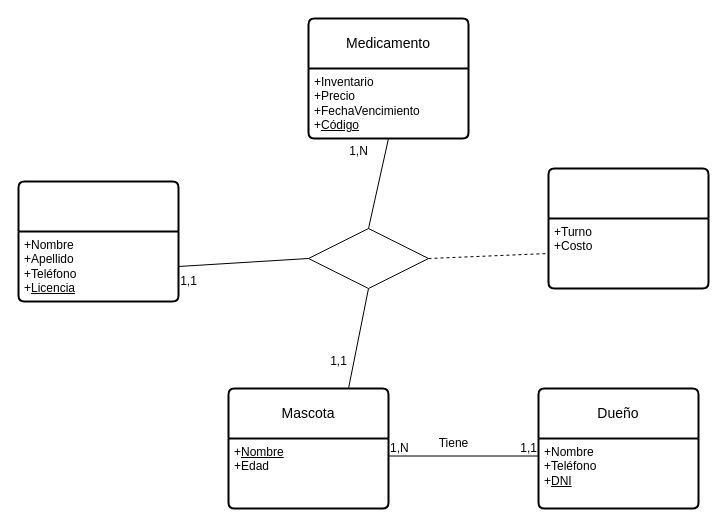
Image size: 726x526. Some labels were removed from this diagram. Each missing label, with the box of its shape:
Atiende: (547, 167, 709, 289)
Veterinario: (17, 180, 179, 302)
